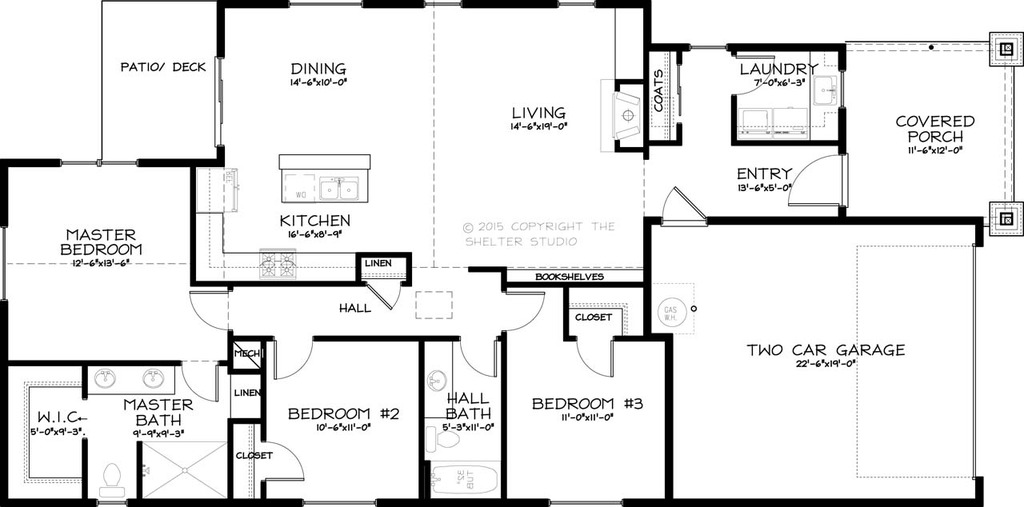door: (768, 155, 852, 209), (728, 47, 781, 101), (263, 327, 312, 383), (173, 355, 224, 403), (499, 287, 549, 332), (661, 181, 707, 229), (573, 336, 621, 381), (187, 289, 234, 331), (455, 333, 498, 378), (258, 440, 301, 481), (361, 279, 408, 314)
kitchen_bar: (265, 143, 379, 215)
large_sink: (419, 420, 469, 456), (96, 462, 128, 499)
sink: (808, 72, 846, 113)
small_sink: (85, 365, 181, 403), (420, 338, 457, 421)
tub: (429, 464, 499, 499)
window: (551, 494, 626, 505), (300, 494, 362, 507), (290, 2, 362, 8)
